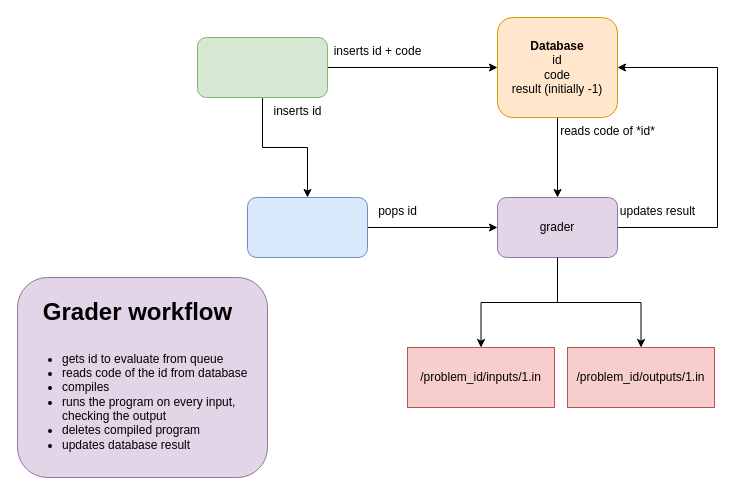
This 743x495 diagram has some shape labels left out. Here are the shapes that lost their labels. From the top down, the centre of each, then its label:
At [262,67]: "AlgoNetAPI".
At [307,227]: "queue<int> (inside grader)".
